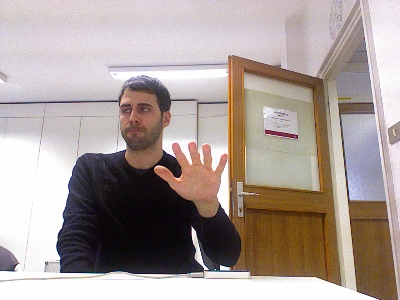布: (150, 139, 228, 203)
